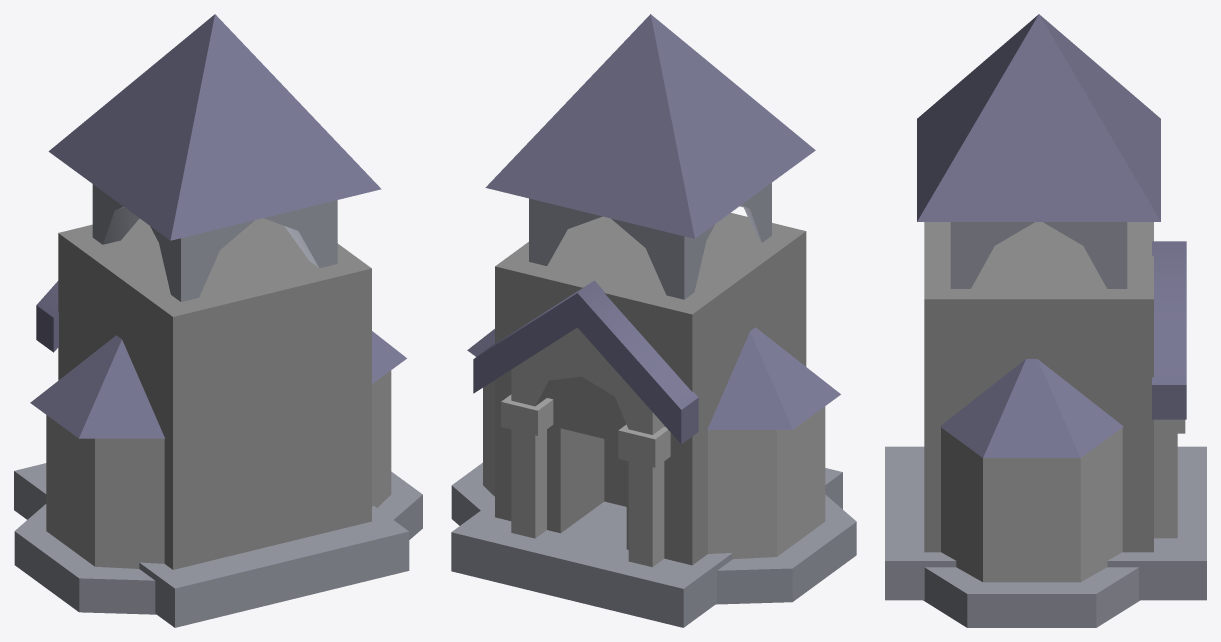
The model's file is church.fbx.
3 views of the same model, side by side, from view 1: azimuth 30°, elevation 25°; view 2: azimuth 150°, elevation 25°; view 3: azimuth 270°, elevation 25° (orthographic).
Visible parts, largest first — view 1: polySurface56; view 2: polySurface56; view 3: polySurface56.
Boxes of the visible parts, left/top/right/bottom form: polySurface56: left=14, top=14, right=422, bottom=627; polySurface56: left=451, top=14, right=856, bottom=627; polySurface56: left=885, top=14, right=1206, bottom=627.
Size of the model in its own units: 11.48 by 16.92 by 9.3.
